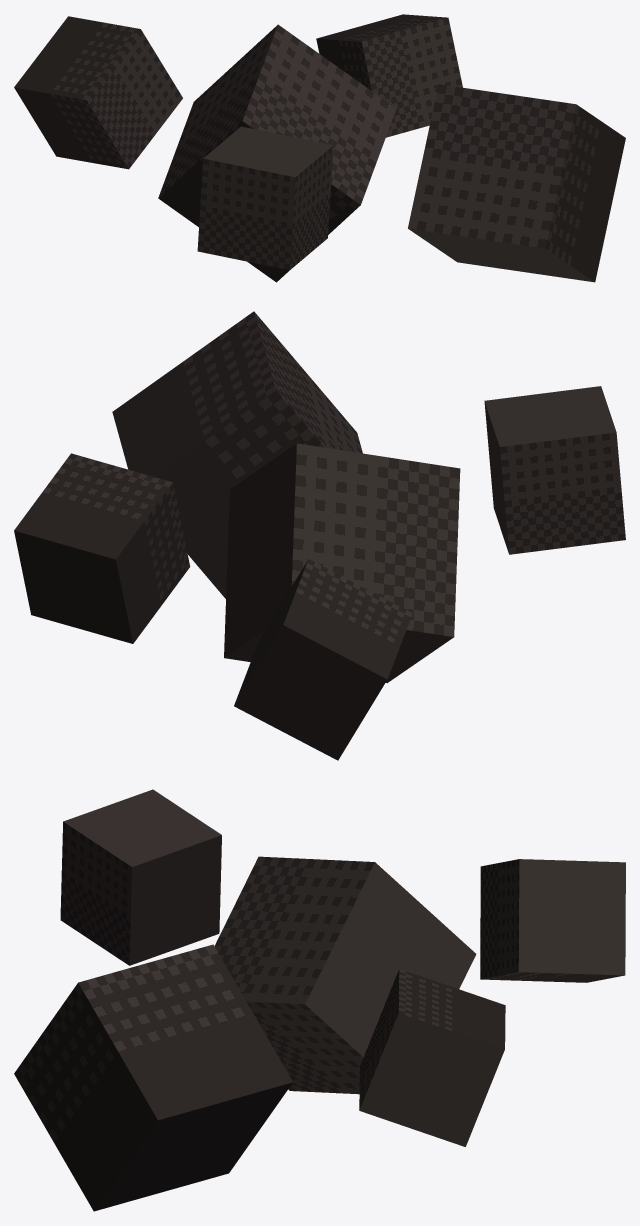
Rendered from Crumbs.dae.
3 views of the same model, one above another, from view 1: azimuth 30°, elevation 25°; view 2: azimuth 150°, elevation 25°; view 3: azimuth 270°, elevation 25° (orthographic). The views are drawn at different scales.
Visible parts, largest first — view 1: Cylinder.001; view 2: Cylinder.001; view 3: Cylinder.001.
Boxes of the visible parts, x1,y1,x2,y2 form: Cylinder.001: (14,14,625,282); Cylinder.001: (14,311,625,760); Cylinder.001: (14,789,625,1211).
Size of the model in its own units: 0.9245 by 1 by 0.4524.
